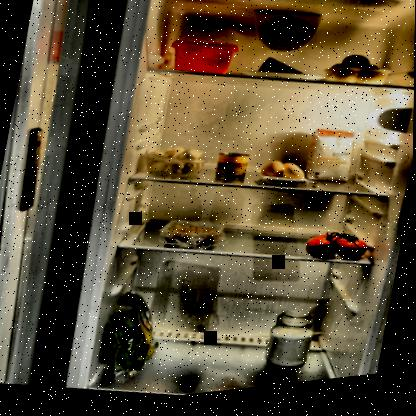butter: (164, 35, 240, 87)
cheese: (255, 58, 308, 90)
corn: (214, 152, 251, 189)
eggs: (259, 161, 308, 193)
mushrooms: (142, 141, 208, 186)
shrimp: (161, 220, 223, 258)
spinach: (93, 283, 170, 394)
sweet_potato: (319, 54, 393, 101)
tomato: (301, 229, 370, 274)
